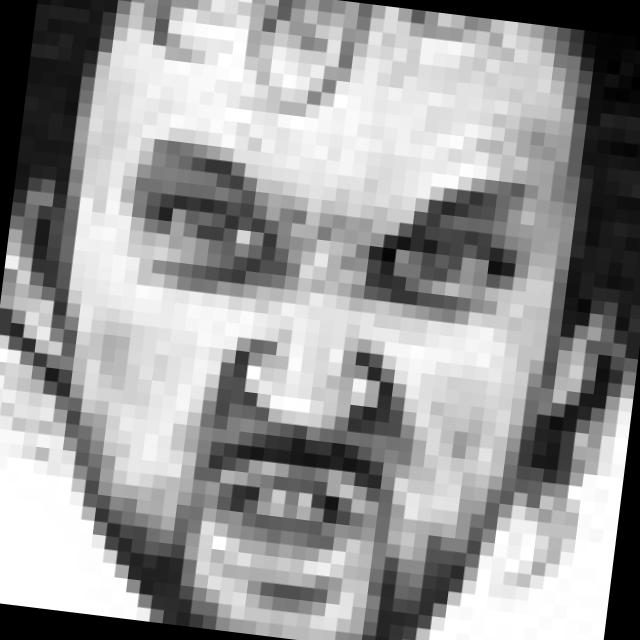angry: (82, 133, 532, 626)
